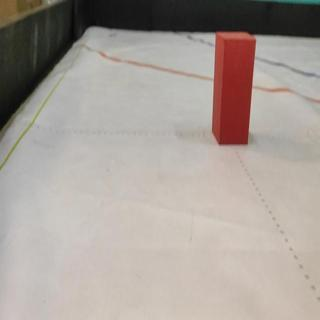redbox: (211, 31, 256, 146)
